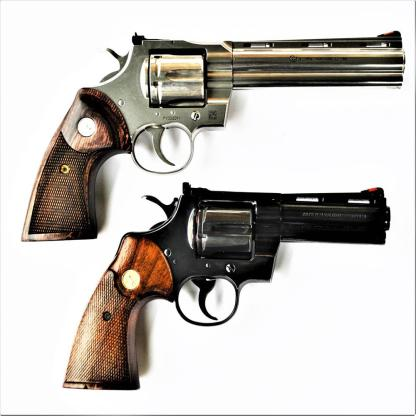handgun: (63, 180, 398, 396), (25, 28, 408, 173)
